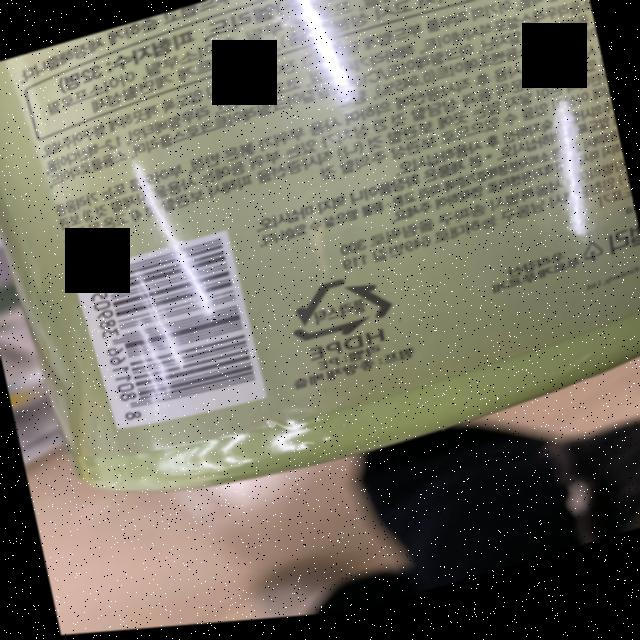Plastic: (278, 266, 398, 357)
